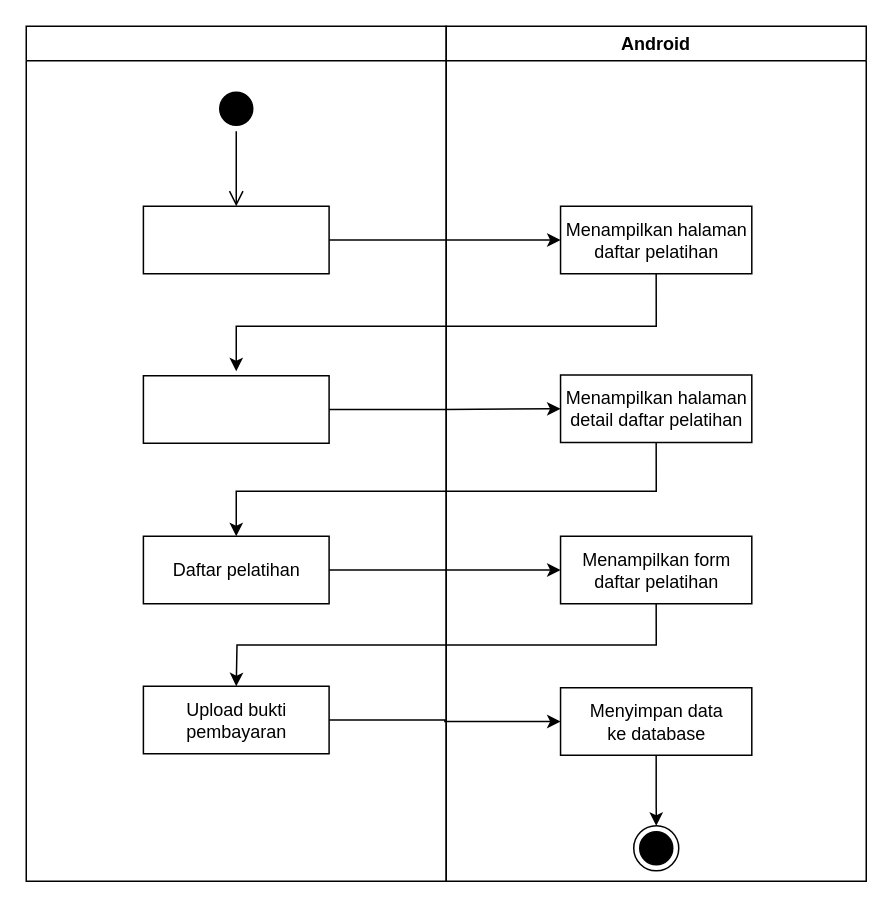
The diagram is 893 pixels wide and 908 high, and some of its shapes have lost their labels. Here are the shapes that lost their labels. From the top down, the box of each, then its label:
(142, 205, 329, 274): Akses halaman daftar pelatihan
(142, 374, 329, 443): Pilih pelatihan
(25, 25, 446, 881): Customers
